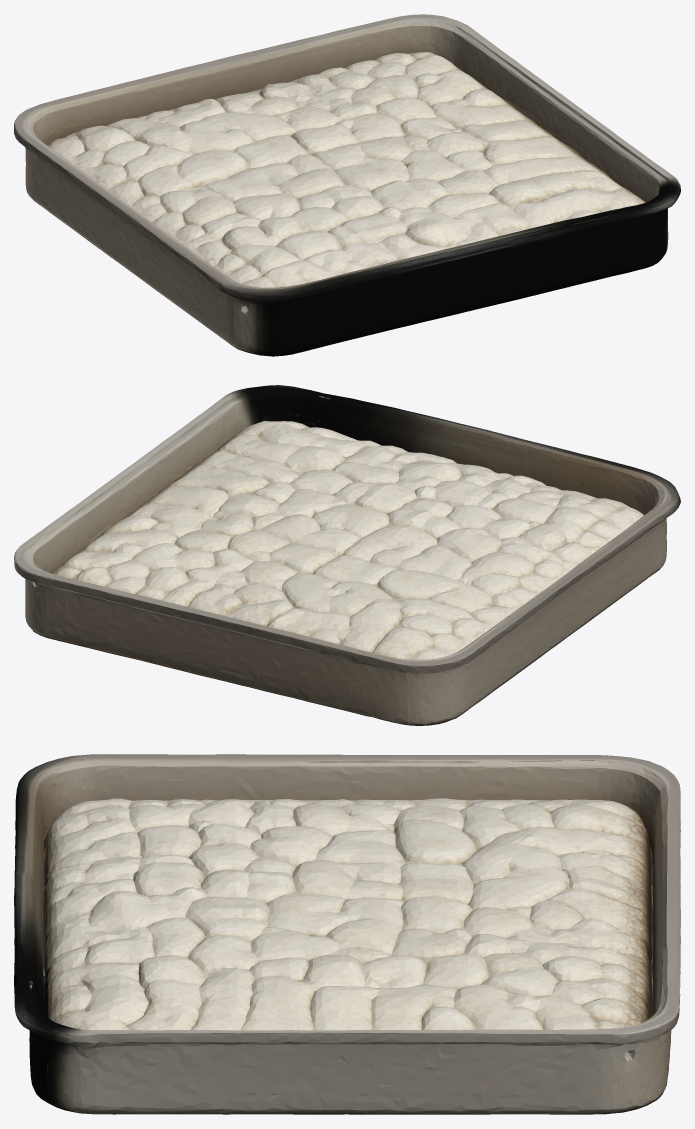
3 renders of one model, top to bottom at view 1: azimuth 30°, elevation 25°; view 2: azimuth 150°, elevation 25°; view 3: azimuth 270°, elevation 25°, orthographic. The views are drawn at different scales.
Parts seen in each view (by area): view 1: world; view 2: world; view 3: world.
Part boxes in pixels (x1=…): world: x1=14, y1=14, x2=680, y2=356; world: x1=14, y1=385, x2=680, y2=725; world: x1=14, y1=754, x2=680, y2=1114.
Bounding box in the file's own units: 0.9913 × 0.162 × 0.9912.
Materials: 1 (1 with a texture image).
